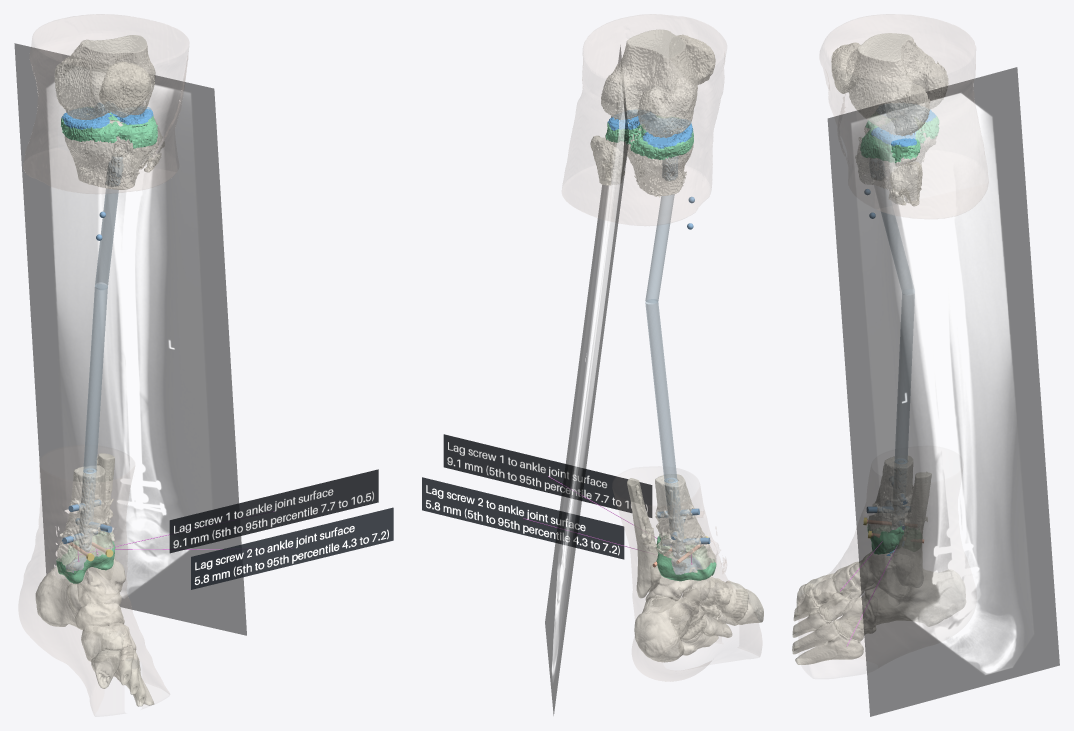
The model's file is 2022-05-13_133804_lat.glb.
The picture shows the model from 3 angles, left to right: view 1: azimuth 30°, elevation 25°; view 2: azimuth 150°, elevation 25°; view 3: azimuth 270°, elevation 25°; orthographic projection.
Parts seen in each view (by area): view 1: radiograph, skin, implant_8, tibia, implant_16, tarsal, femur, nail_modelled, patella, metatarsal, capsule_band_knee, nail (+3 smaller); view 2: skin, radiograph, femur, implant_17, implant_9, tarsal, tibia, nail_modelled, fibula, metatarsal, articular_surface_knee, capsule_band_knee (+3 smaller); view 3: radiograph, tarsal, skin, femur, fibula, tibia, nail_modelled, metatarsal, capsule_band_knee, patella, capsule_band_ankle, nail (+1 smaller).
Part boxes in pixels (bbox=[...]): radiograph: bbox=[14, 43, 246, 635]; skin: bbox=[19, 14, 188, 715]; implant_8: bbox=[169, 469, 378, 553]; tibia: bbox=[57, 120, 155, 583]; implant_16: bbox=[191, 507, 393, 589]; tarsal: bbox=[35, 559, 136, 661]; femur: bbox=[54, 35, 155, 119]; nail_modelled: bbox=[83, 188, 118, 472]; patella: bbox=[99, 61, 151, 117]; metatarsal: bbox=[91, 645, 154, 706]; capsule_band_knee: bbox=[61, 107, 157, 148]; nail: bbox=[79, 153, 123, 551]; skin: bbox=[562, 14, 761, 681]; radiograph: bbox=[545, 47, 629, 715]; femur: bbox=[601, 29, 697, 137]; implant_17: bbox=[422, 477, 624, 559]; implant_9: bbox=[443, 434, 652, 517]; tarsal: bbox=[634, 557, 748, 662]; tibia: bbox=[605, 122, 716, 580]; nail_modelled: bbox=[645, 194, 677, 483]; fibula: bbox=[590, 135, 661, 598]; metatarsal: bbox=[680, 588, 763, 655]; articular_surface_knee: bbox=[607, 110, 692, 148]; capsule_band_knee: bbox=[605, 116, 693, 159]; radiograph: bbox=[827, 67, 1059, 716]; tarsal: bbox=[803, 550, 965, 641]; skin: bbox=[799, 14, 988, 659]; femur: bbox=[848, 33, 948, 136]; fibula: bbox=[889, 161, 931, 587]; tibia: bbox=[855, 127, 936, 554]; nail_modelled: bbox=[875, 186, 914, 463]; metatarsal: bbox=[792, 584, 863, 664]; capsule_band_knee: bbox=[860, 116, 938, 163]; patella: bbox=[831, 42, 860, 93]; capsule_band_ankle: bbox=[867, 526, 904, 554]; nail: bbox=[870, 158, 907, 529].
Bounding box in the file's own units: 0.2864 × 0.5338 × 0.2064.
15 materials, 3 textured.
